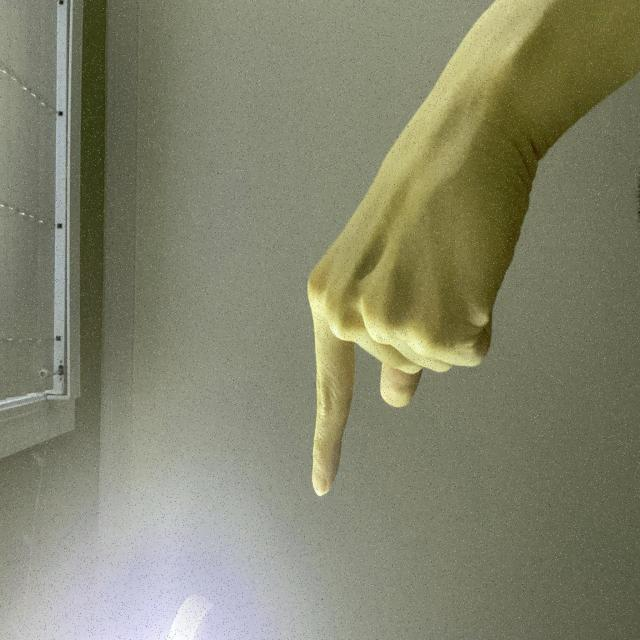G: (100, 399, 453, 640)
